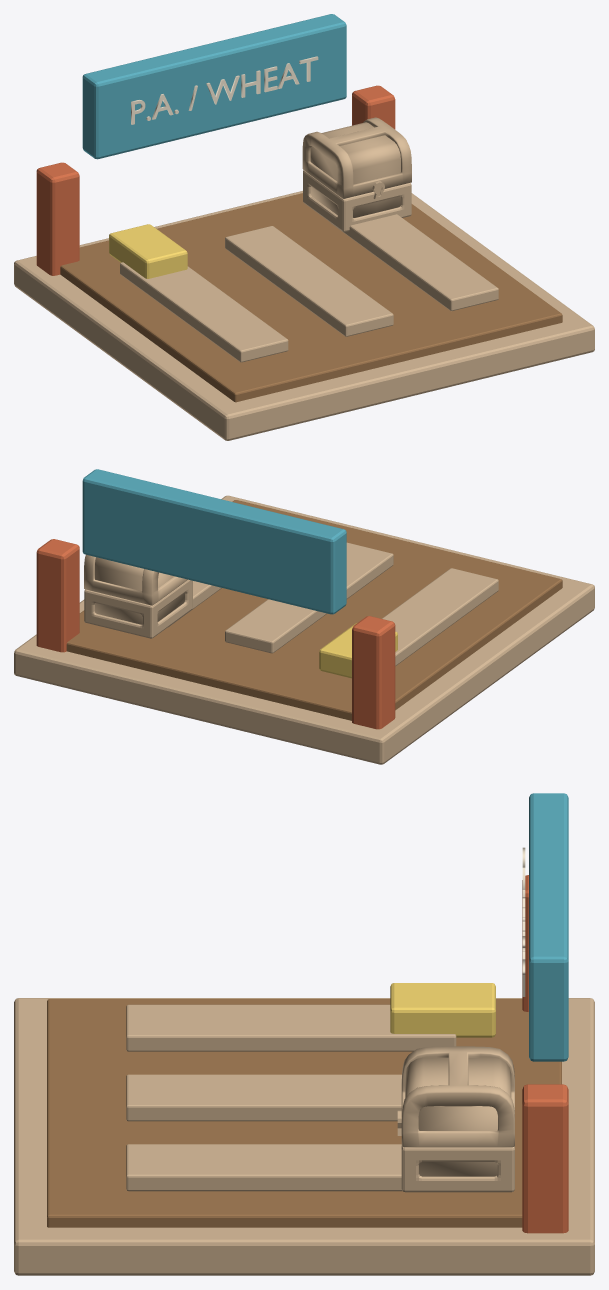
File: PA_StarterWorksite_Wheat.fbx
3 views of the same model, one above another, from view 1: azimuth 30°, elevation 25°; view 2: azimuth 150°, elevation 25°; view 3: azimuth 270°, elevation 25° (orthographic). The views are drawn at different scales.
Parts seen in each view (by area): view 1: PA_StarterWorksite_Wheat; view 2: PA_StarterWorksite_Wheat; view 3: PA_StarterWorksite_Wheat.
Boxes of the visible parts, <box> form: PA_StarterWorksite_Wheat: <box>14,14,594,440</box>; PA_StarterWorksite_Wheat: <box>14,469,594,764</box>; PA_StarterWorksite_Wheat: <box>14,793,594,1275</box>.
Bounding box in the file's own units: 1.76 × 0.935 × 1.76.
